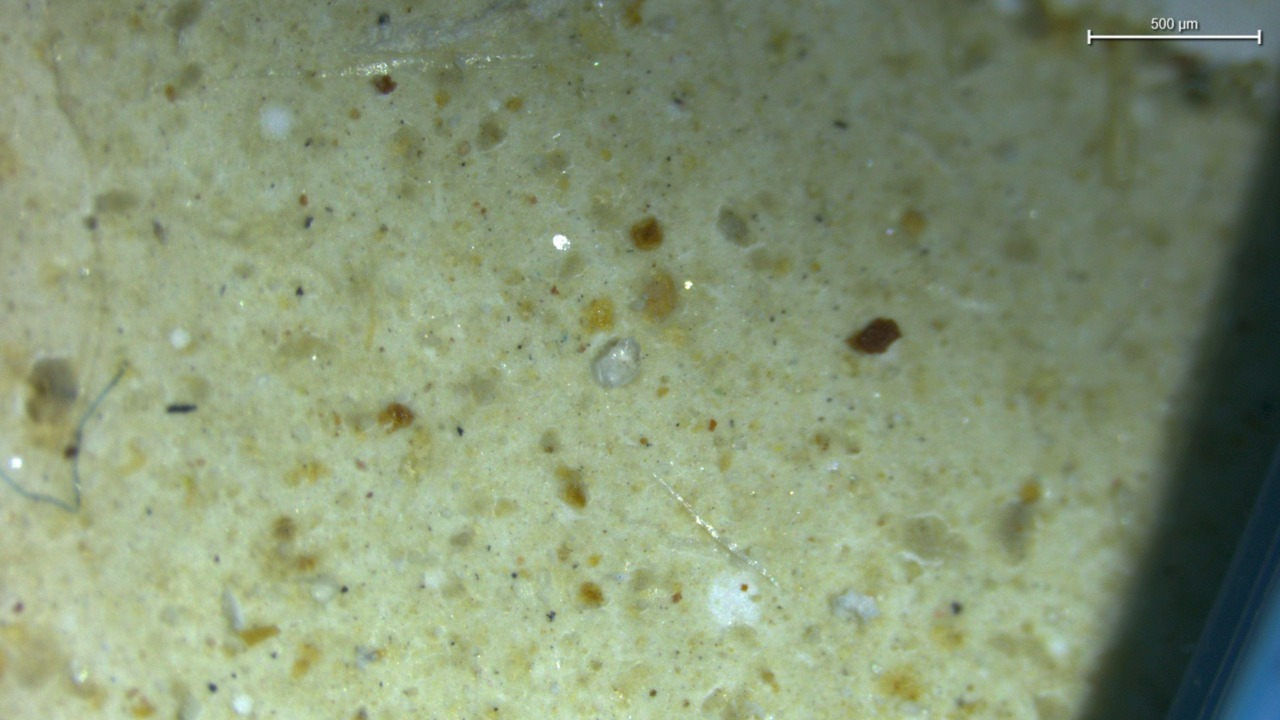microplastic_fragment: (592, 337, 641, 388)
